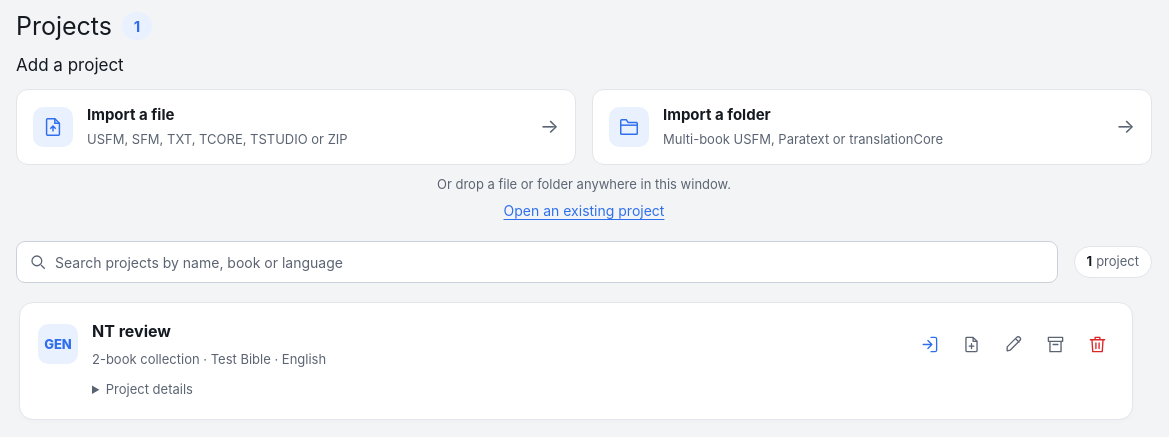
Test: ImportScreen projects list (#238) › keeps Delete behind its confirmation
Expected: the text "NT review" is shown, 92,321 -> 171,341
Step 1. Click the button named "Delete NT review" → [1097, 344], box 1080,327 -> 1114,361
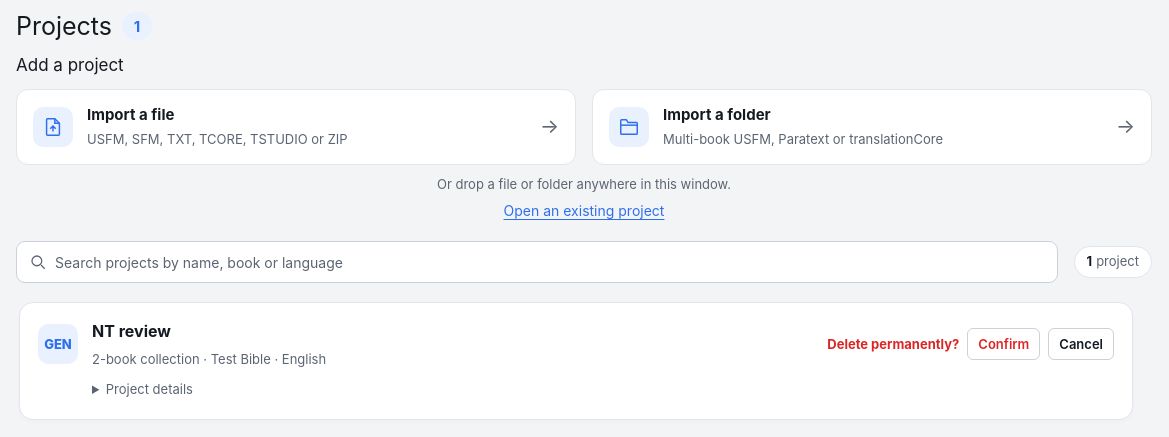
Expected: the text "Delete permanently?" is shown, 827,335 -> 959,354
Expected: the button "Confirm" is shown, 967,328 -> 1040,360
Step 2. Click the button "Cancel" → [1081, 344], box 1048,328 -> 1114,360
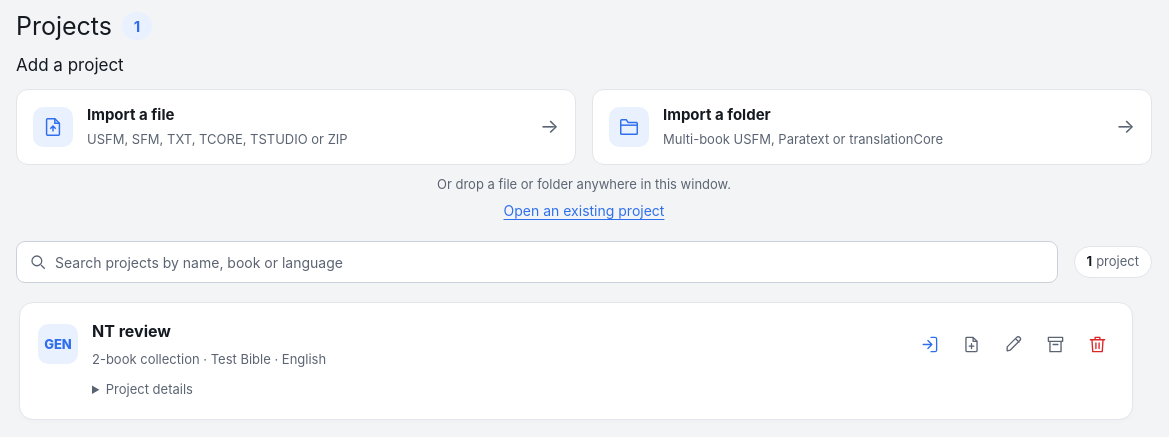
Expected: the text "Delete permanently?" is gone
